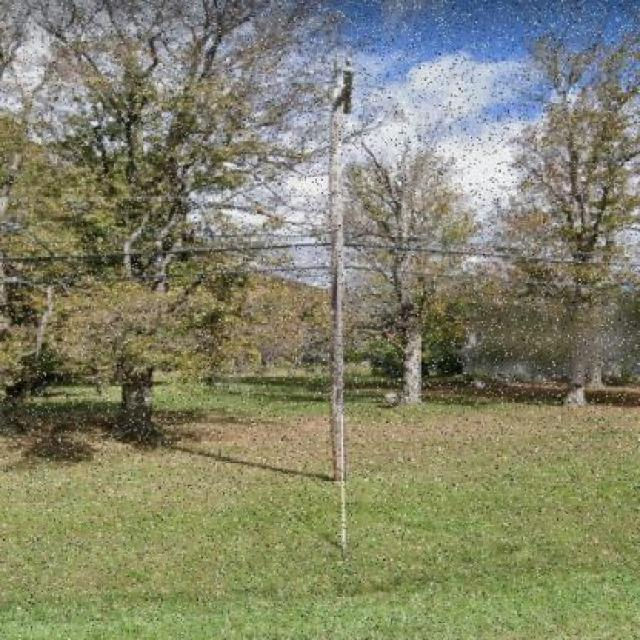pole: (329, 62, 357, 557)
wire: (0, 241, 640, 268), (0, 264, 639, 288)
